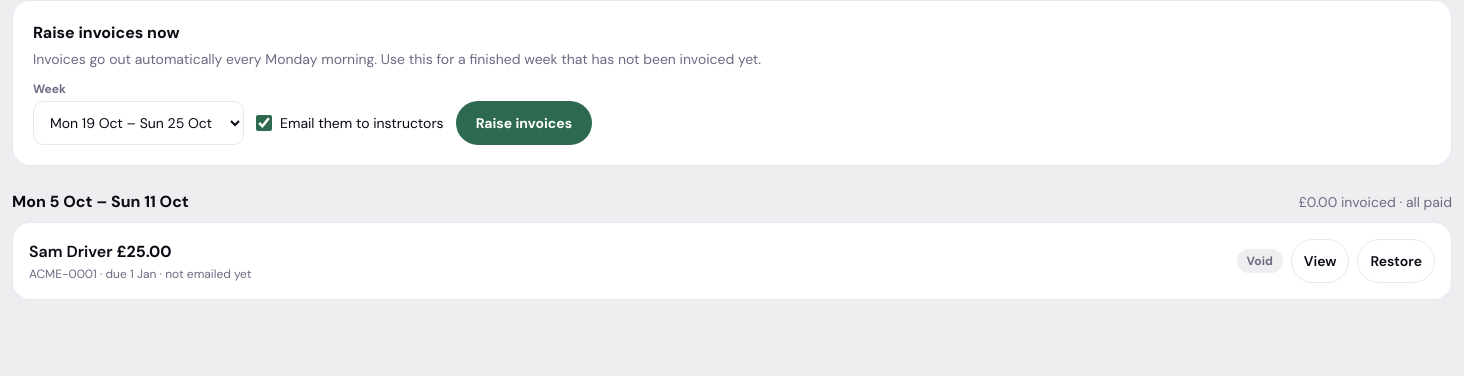
Test: InvoicesView › restores a void invoice through the status route
Expected: the text "Void" is shown, [1237, 249, 1283, 273]
Expected: the button "send" is not shown
Click the button "Restore": [1396, 261] box [1358, 239, 1435, 283]
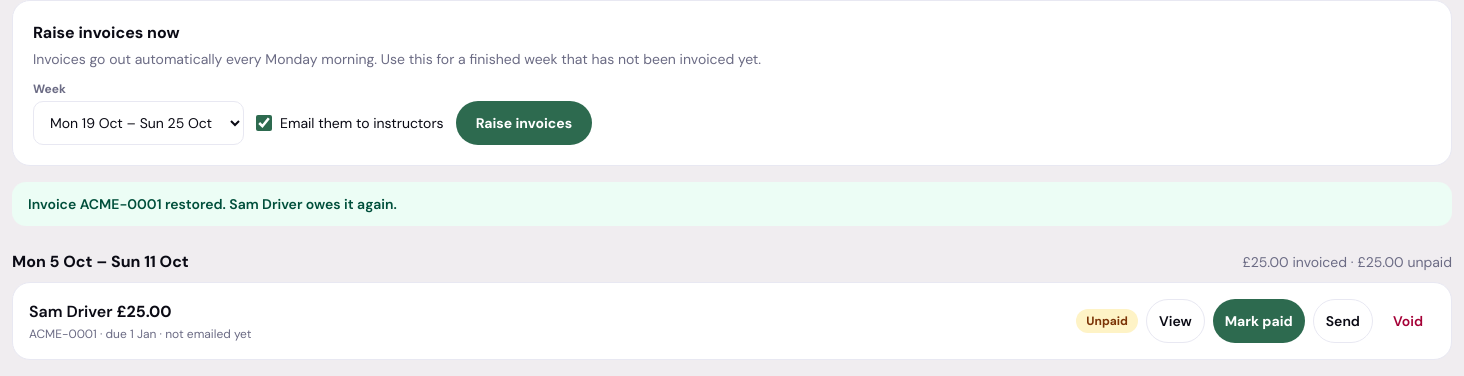
Expected: the message shows "Invoice ACME-0001 restored", [28, 195, 397, 213]
Expected: the text "Unpaid" is shown, [1076, 309, 1138, 333]
Expected: the button "Mark paid" is shown, [1213, 299, 1305, 343]
